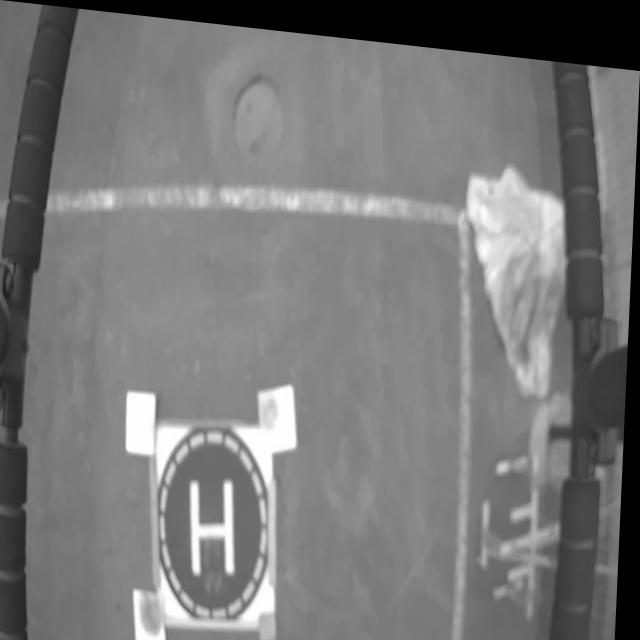Helipad: (194, 474, 240, 572)
